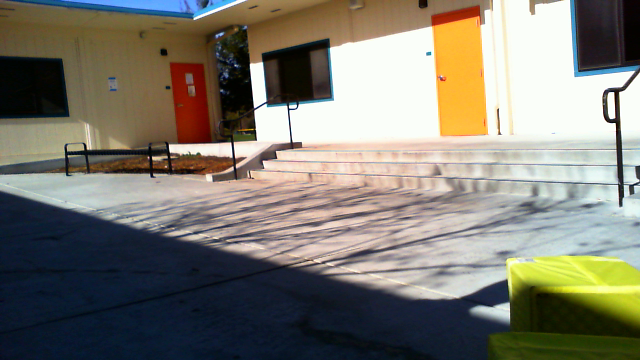cube: (504, 257, 640, 359), (488, 332, 640, 360)
